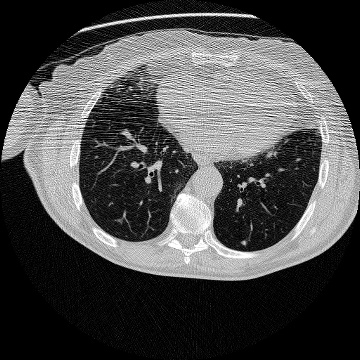PN: (242, 241, 246, 245)
